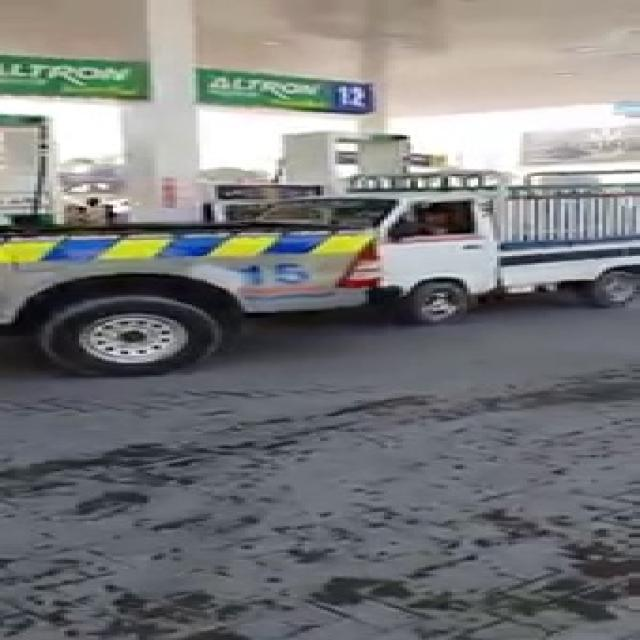police: (1, 232, 405, 376)
